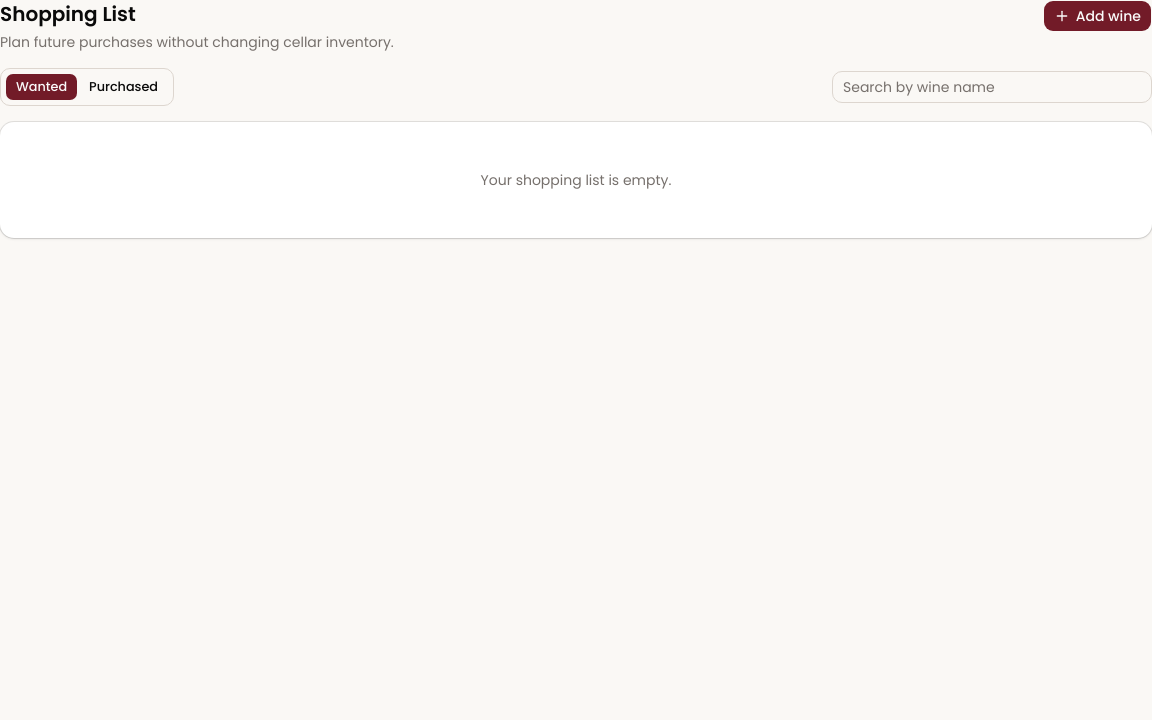
CellarShoppingList › preserves manual form values after a service failure
Click the button "Add wine" at (1097, 16), box [1043,0,1151,32]
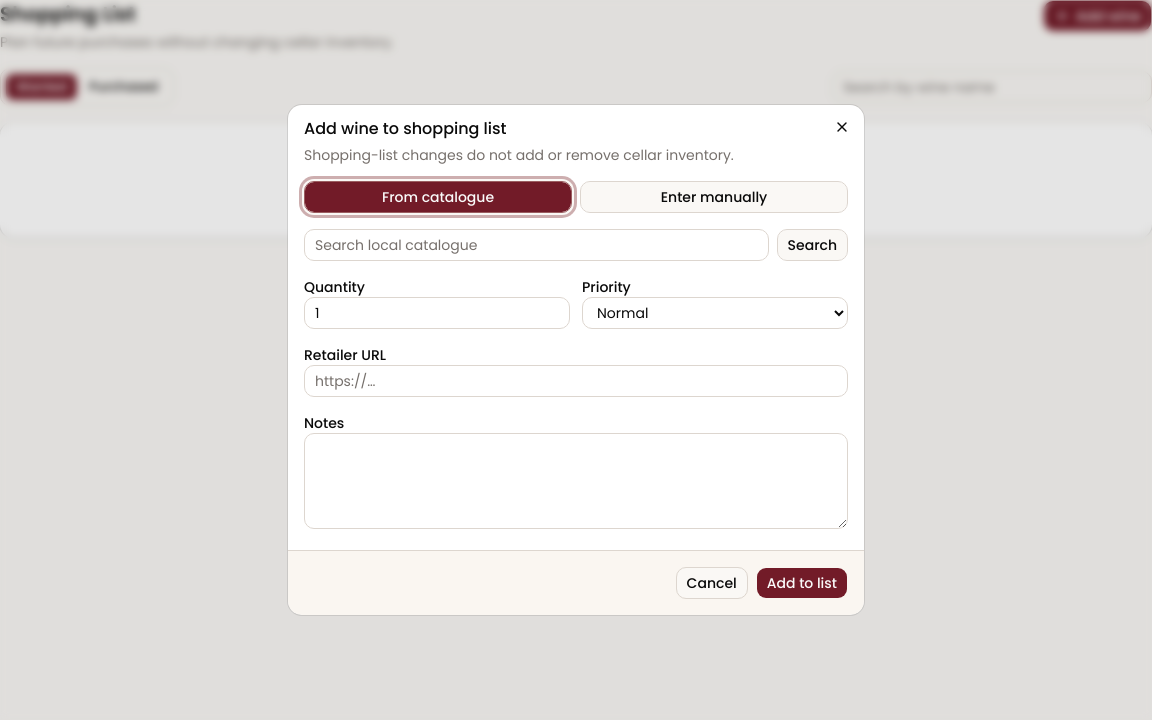
Click the button "Enter manually" at (714, 197), box [580,181,848,213]
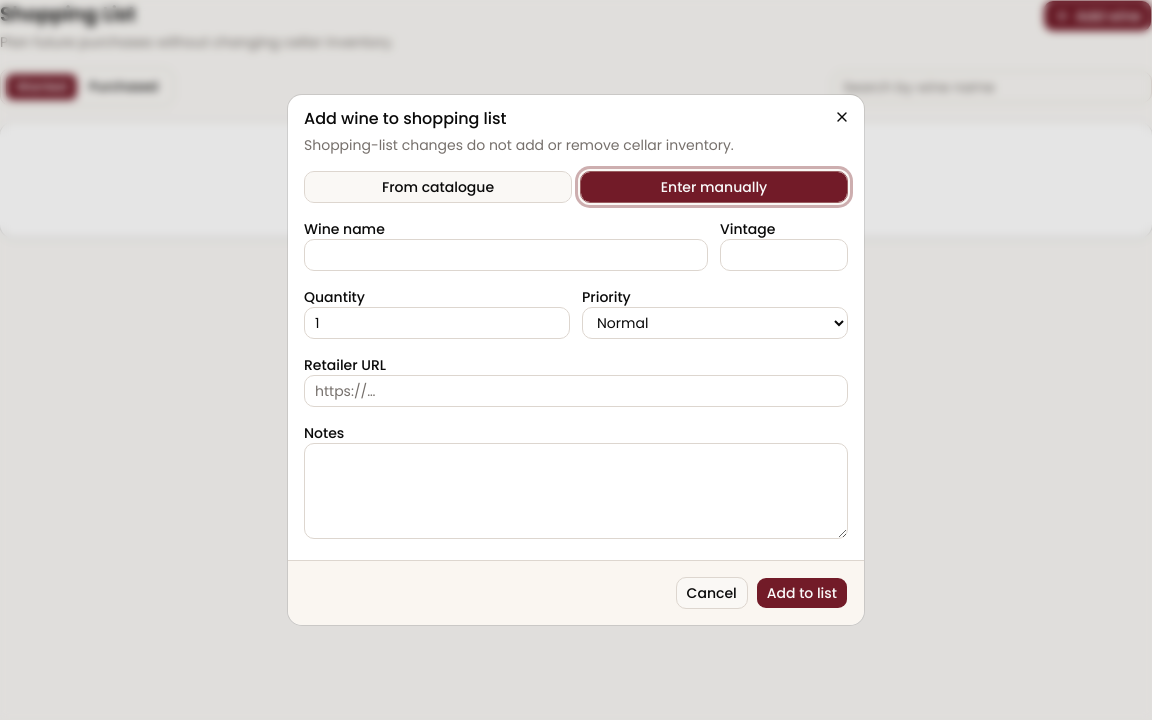
Type "Special Cuvée" into the field labelled "Wine name" at (506, 255), box [304,239,708,271]
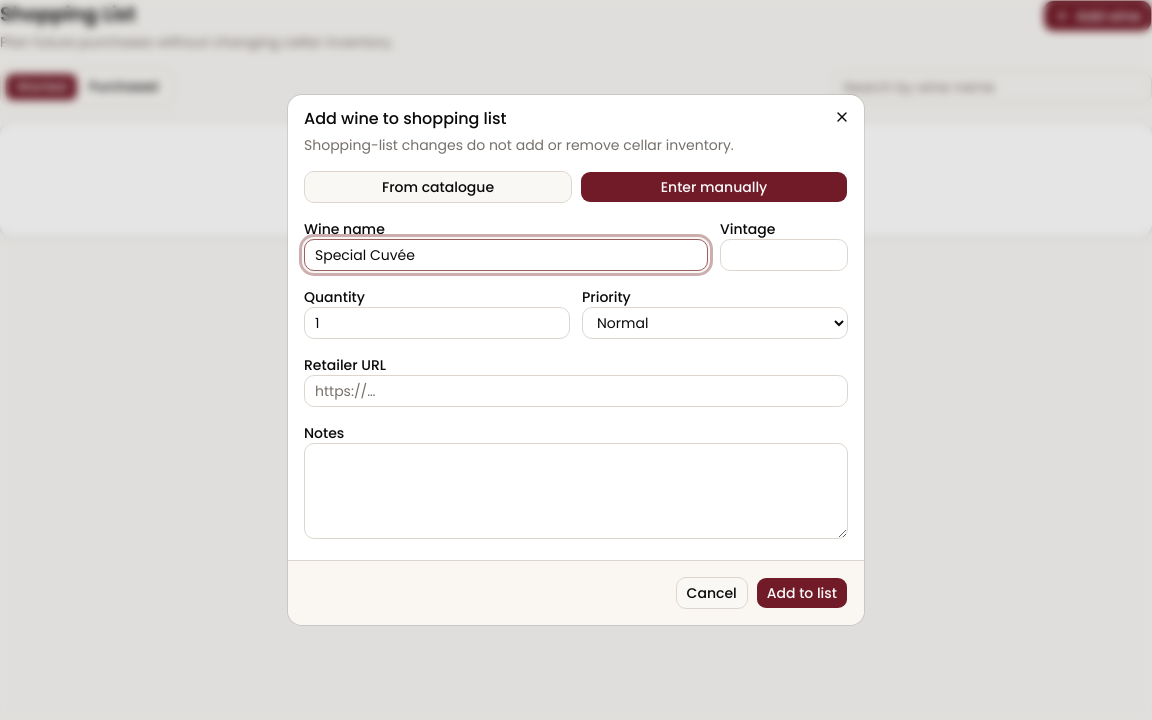
Replace the text in the number field labelled "Quantity" with "4" at (437, 323), box [304,307,570,339]
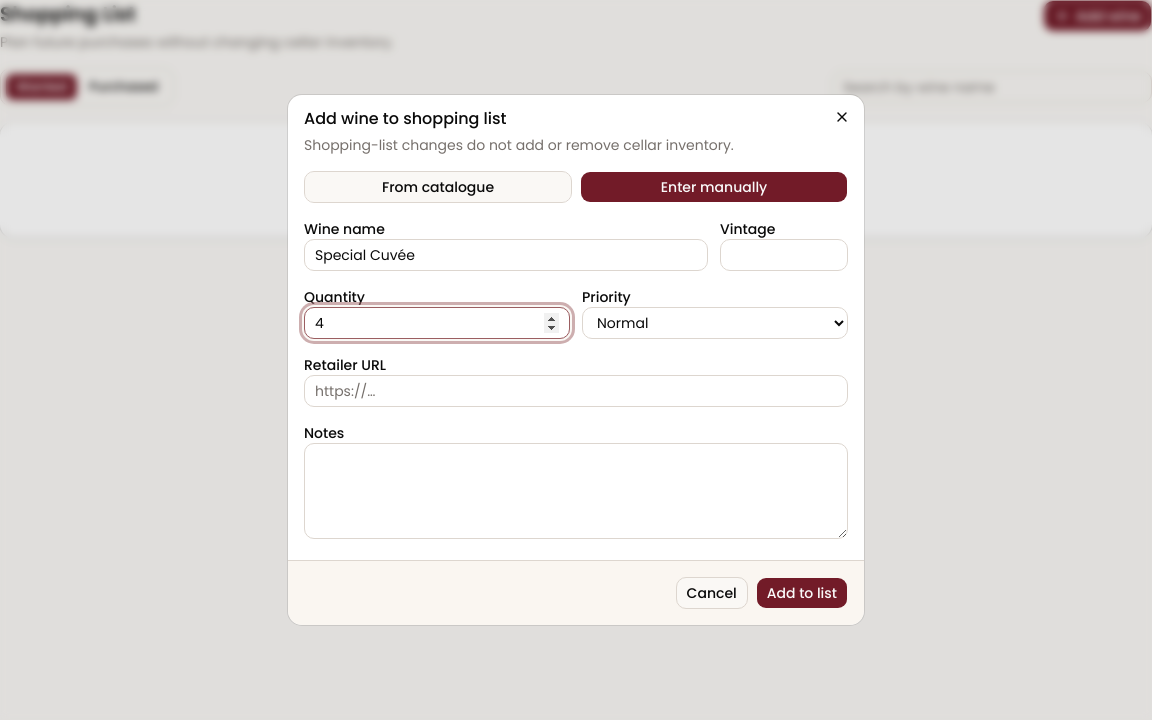
Click the button "Add to list" at (802, 593), box [756,577,848,609]
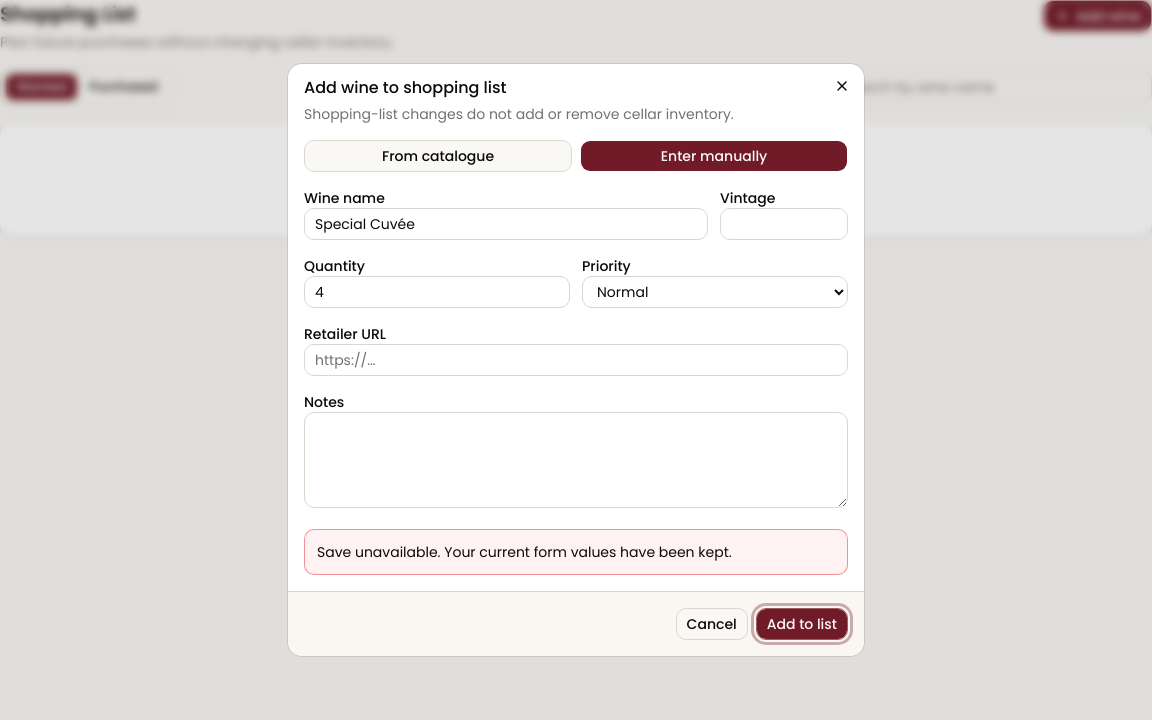
Now the message shows "Save unavailable", box [317,542,732,562]
